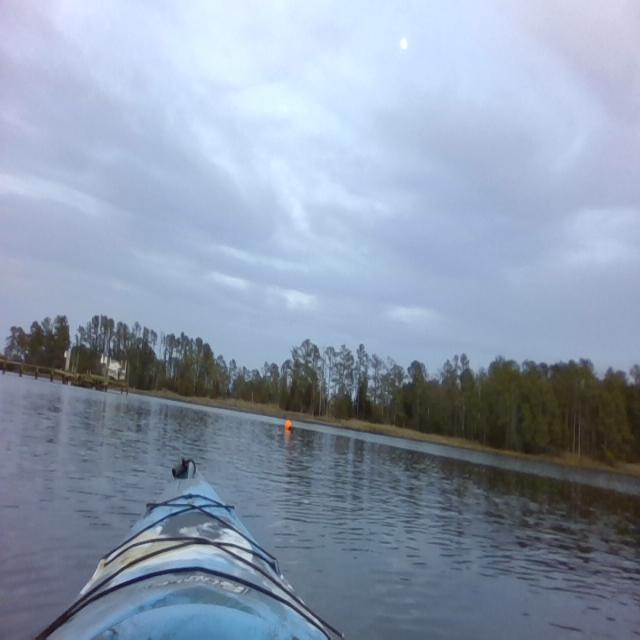Buoy: (284, 416, 294, 434)
